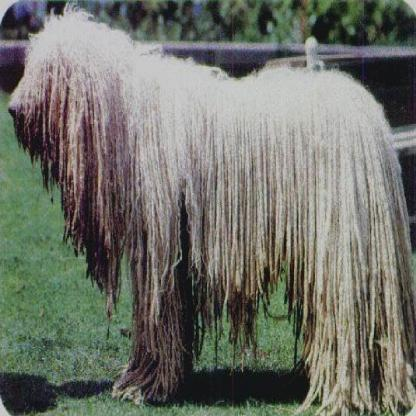komondor: (6, 1, 414, 414)
